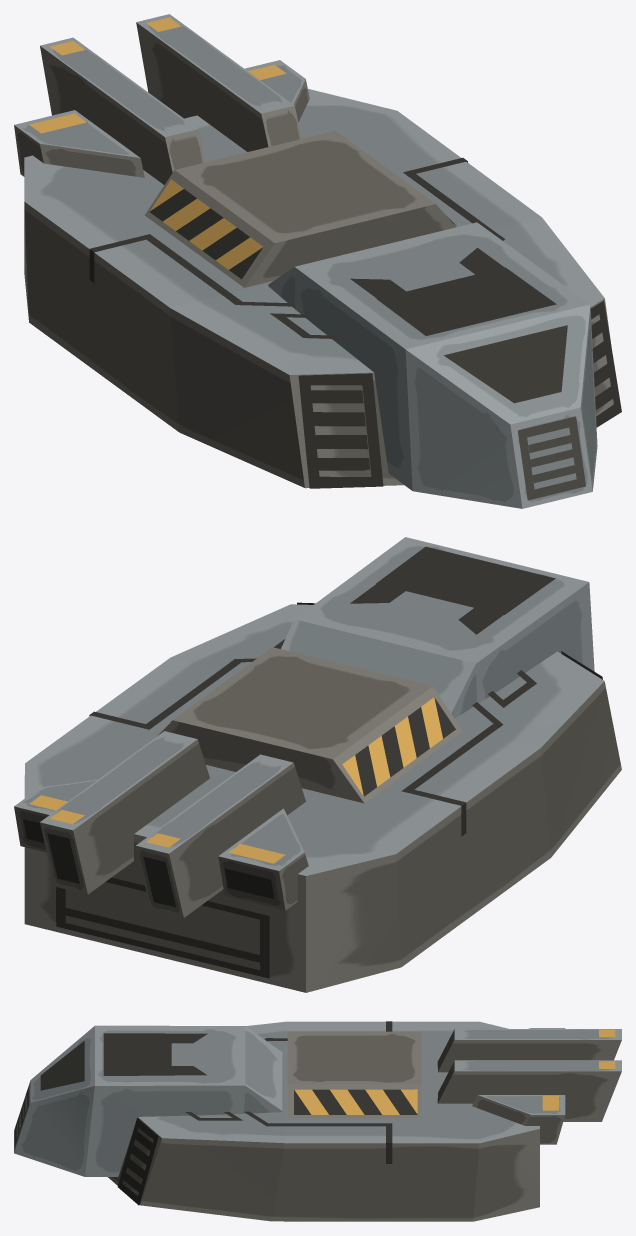
The model's file is UI_xunma.FBX.
The picture shows the model from 3 angles, top to bottom: view 1: azimuth 30°, elevation 25°; view 2: azimuth 150°, elevation 25°; view 3: azimuth 270°, elevation 25°; orthographic projection. The views are drawn at different scales.
Parts seen in each view (by area): view 1: scout; view 2: scout; view 3: scout.
Boxes of the visible parts, bbox=[...] form: scout: bbox=[14, 14, 621, 508]; scout: bbox=[14, 537, 621, 992]; scout: bbox=[14, 1021, 621, 1221].
Size of the model in its own units: 49.76 by 25.1 by 105.
1 material, 1 textured.
